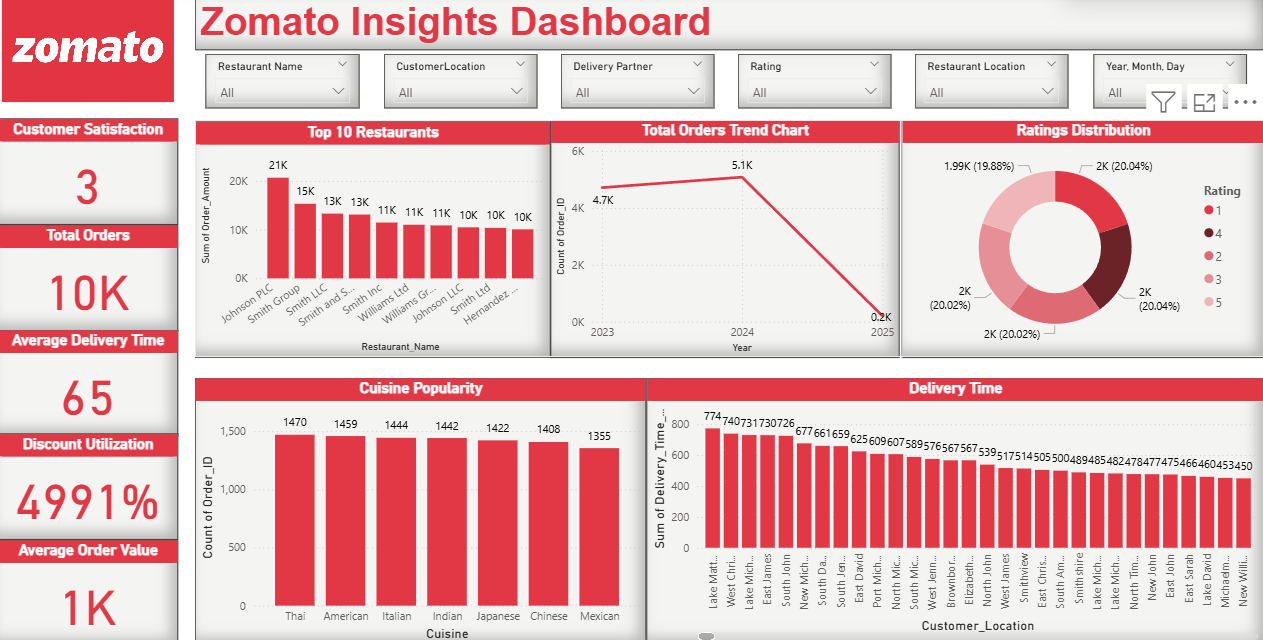

What the dashboard file says about the page in this screenshot:
{"tool":"powerbi","page":{"name":"Zomato Insights Dashboard","canvas":[1400,720],"ordinal":1},"visuals":[{"type":"textbox","box":[219.1,0,1180.2,62],"z":0},{"type":"card","title":"Total Orders","fields":{"Values":["Count(Sheet1.Order_ID)"]},"box":[0,255.2,200.3,117.2],"z":0,"group":"g4"},{"type":"image","box":[0,0,200.5,124],"z":1000},{"type":"card","title":"Average Delivery Time","fields":{"Values":["Avg(Sheet1.Delivery_Time_Minutes)"]},"box":[0,372.3,200.3,117.2],"z":1000,"group":"g4"},{"type":"group","id":"g1","title":"Group 1","box":[229.4,66.1,1149.2,59.9],"z":2000},{"type":"card","title":"Average Order Value","fields":{"Values":["Avg(Sheet1.Order_Amount)"]},"box":[0,602.9,200.3,117.2],"z":2000,"group":"g4"},{"type":"card","title":"Customer Satisfaction","fields":{"Values":["Avg(Sheet1.Rating)"]},"box":[0,138,200.3,117.2],"z":3000,"group":"g4"},{"type":"group","id":"g2","title":"Group 2","box":[219.1,138.5,1180.2,262.5],"z":3000},{"type":"group","id":"g3","title":"Group 3","box":[219.1,423.7,1180.2,295.6],"z":4000},{"type":"card","title":"Discount Utilization ","fields":{"Values":["Sheet1.Discount Utilization (%)"]},"box":[0,485.7,200.3,117.2],"z":4000,"group":"g4"},{"type":"group","id":"g4","title":"Group 4","box":[0,138,200.3,582.1],"z":5000},{"type":"lineChart","title":"Total Orders Trend Chart","fields":{"Category":["Sheet1.Order_Date.Variation.Date Hierarchy.Year"],"Y":["CountNonNull(Sheet1.Order_ID)"]},"box":[612.3,138.5,385.5,262.7],"z":5000,"group":"g2"},{"type":"columnChart","title":"Delivery Time ","fields":{"Category":["Sheet1.Customer_Location"],"Y":["Sum(Sheet1.Delivery_Time_Minutes)"]},"box":[717.2,423.7,682.1,295.6],"z":6000,"group":"g3"},{"type":"columnChart","title":"Top 10 Restaurants","fields":{"Category":["Sheet1.Restaurant_Name"],"Y":["Sum(Sheet1.Order_Amount)"]},"box":[219.1,140.7,392.7,260.4],"z":7000,"group":"g2"},{"type":"donutChart","title":"Ratings Distribution","fields":{"Y":["CountNonNull(Sheet1.Order_ID)"],"Category":["Sheet1.Rating"]},"box":[998.3,138.7,401,262.5],"z":8000,"group":"g2"},{"type":"columnChart","title":"Cuisine Popularity","fields":{"Category":["Sheet1.Cuisine"],"Y":["CountNonNull(Sheet1.Order_ID)"]},"box":[219.1,423.7,498.1,295.6],"z":9000,"group":"g3"},{"type":"slicer","fields":{"Values":["Sheet1.Restaurant_Name"]},"box":[229.4,66.1,170,60],"z":12000,"group":"g1"},{"type":"slicer","fields":{"Values":["Sheet1.Customer_Location"]},"box":[425.8,66.1,169.5,59.9],"z":13000,"group":"g1"},{"type":"slicer","fields":{"Values":["Sheet1.Delivery_Partner"]},"box":[621.6,66.1,169.5,59.9],"z":14000,"group":"g1"},{"type":"slicer","fields":{"Values":["Sheet1.Rating"]},"box":[817.4,66.1,169.5,59.9],"z":15000,"group":"g1"},{"type":"slicer","fields":{"Values":["Sheet1.Restaurant_Location"]},"box":[1013.3,66.1,169.5,59.9],"z":16000,"group":"g1"},{"type":"slicer","fields":{"Values":["Sheet1.Order_Date.Variation.Date Hierarchy.Year","Sheet1.Order_Date.Variation.Date Hierarchy.Month","Sheet1.Order_Date.Variation.Date Hierarchy.Day"]},"box":[1209.1,66.1,169.5,59.9],"z":17000,"group":"g1"}]}

Visuals, with their boxes in screenshot pixels (x1, y1, x2, y2), scaled from the page's 1400x720 canvas onto the 1263x640 screenshot:
textbox: crop(198, 0, 1262, 55)
"Total Orders" card: crop(0, 227, 181, 331)
image: crop(0, 0, 181, 110)
"Average Delivery Time" card: crop(0, 331, 181, 435)
"Group 1" group: crop(207, 59, 1244, 112)
"Average Order Value" card: crop(0, 536, 181, 639)
"Customer Satisfaction" card: crop(0, 123, 181, 227)
"Group 2" group: crop(198, 123, 1262, 356)
"Group 3" group: crop(198, 377, 1262, 639)
"Discount Utilization " card: crop(0, 432, 181, 536)
"Group 4" group: crop(0, 123, 181, 639)
"Total Orders Trend Chart" lineChart: crop(552, 123, 900, 357)
"Delivery Time " columnChart: crop(647, 377, 1262, 639)
"Top 10 Restaurants" columnChart: crop(198, 125, 552, 357)
"Ratings Distribution" donutChart: crop(901, 123, 1262, 357)
"Cuisine Popularity" columnChart: crop(198, 377, 647, 639)
slicer - Sheet1.Restaurant_Name: crop(207, 59, 360, 112)
slicer - Sheet1.Customer_Location: crop(384, 59, 537, 112)
slicer - Sheet1.Delivery_Partner: crop(561, 59, 714, 112)
slicer - Sheet1.Rating: crop(737, 59, 890, 112)
slicer - Sheet1.Restaurant_Location: crop(914, 59, 1067, 112)
slicer - Sheet1.Order_Date.Variation.Date Hierarchy.Year x Sheet1.Order_Date.Variation.Date Hierarchy.Month: crop(1091, 59, 1244, 112)
